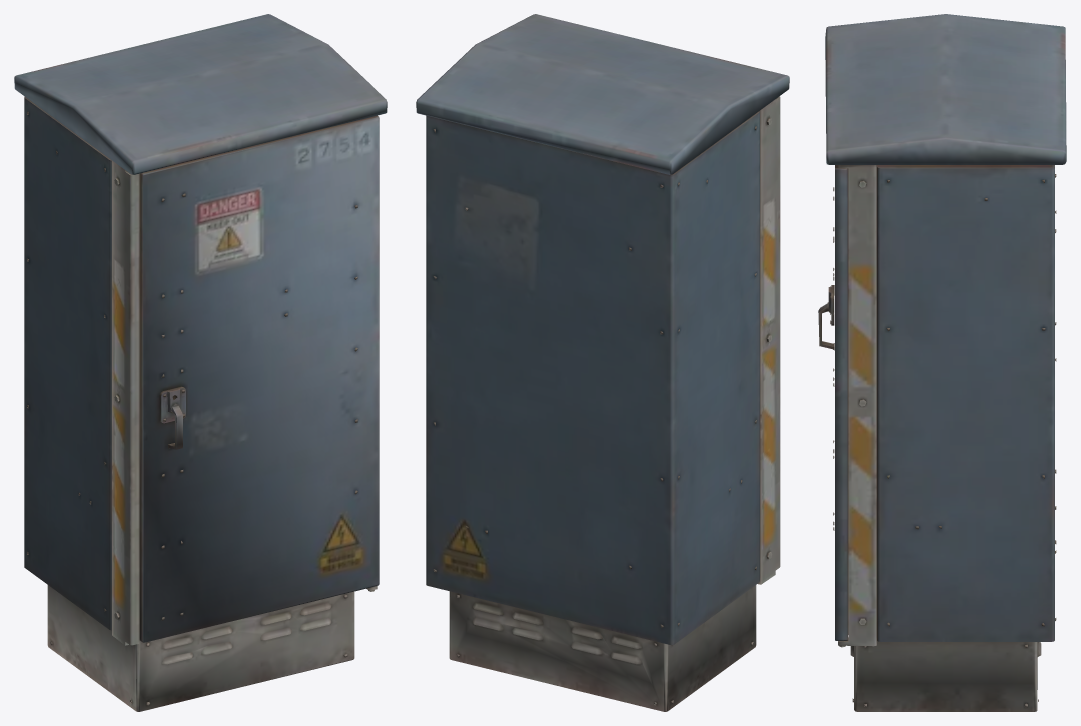
The model's file is utility_box_01.glb.
3 renders of one model, left to right at view 1: azimuth 30°, elevation 25°; view 2: azimuth 150°, elevation 25°; view 3: azimuth 270°, elevation 25°, orthographic.
Parts seen in each view (by area): view 1: utility_box_01_box; view 2: utility_box_01_box; view 3: utility_box_01_box.
Boxes of the visible parts, x1,y1,x2,y2 form: utility_box_01_box: [14, 14, 387, 711]; utility_box_01_box: [416, 14, 789, 711]; utility_box_01_box: [818, 14, 1066, 711].
Size of the model in its own units: 0.5187 by 1.12 by 0.432.
1 material, 1 textured.
